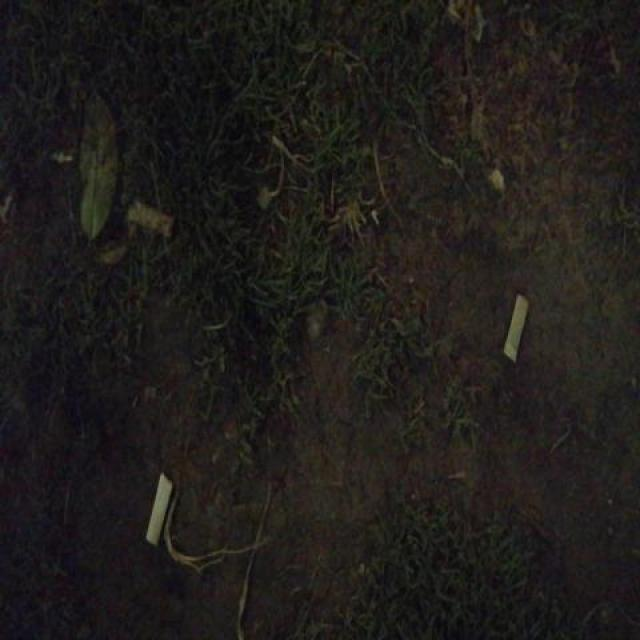non-organic waste: (124, 193, 180, 246), (141, 468, 176, 548), (501, 290, 531, 366)
